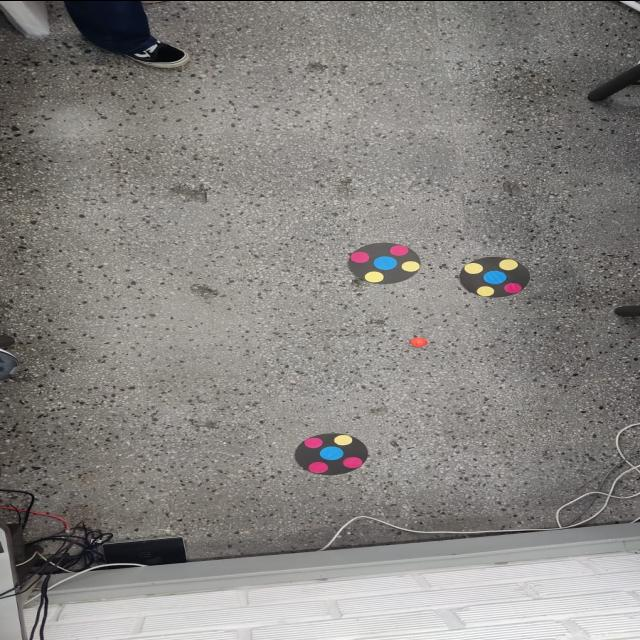0: (292, 431, 368, 475)
1: (348, 242, 422, 284)
2: (457, 255, 531, 298)
Ball: (408, 336, 430, 346)
